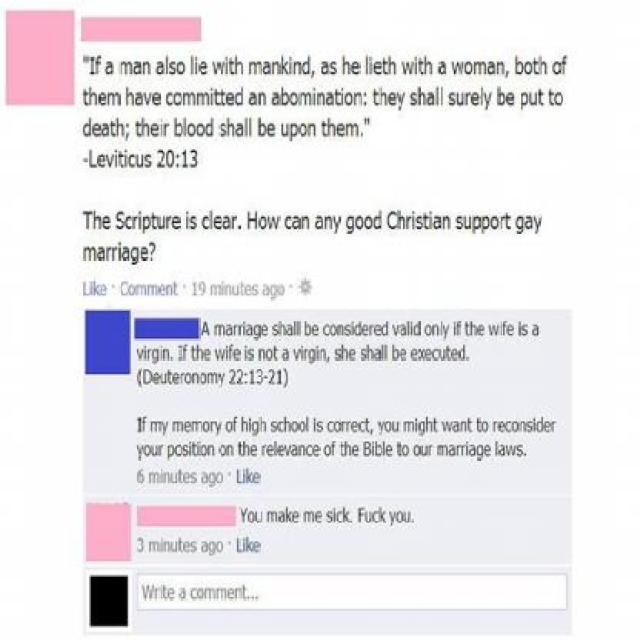0: (166, 149, 174, 168)
1: (182, 149, 188, 168), (250, 370, 256, 384), (276, 370, 282, 384), (192, 280, 197, 296)
2: (157, 149, 166, 168), (230, 368, 236, 386), (268, 368, 274, 386), (236, 368, 242, 384)
3: (190, 148, 198, 168), (256, 368, 264, 386), (137, 536, 143, 552)
6: (137, 467, 145, 484)
9: (198, 280, 207, 297)
A: (524, 214, 534, 232), (314, 214, 324, 231), (262, 60, 272, 76), (222, 214, 232, 230), (438, 59, 447, 76), (133, 60, 142, 76), (320, 60, 329, 76), (433, 214, 442, 230), (97, 246, 106, 262), (201, 321, 210, 337), (324, 93, 334, 107), (487, 59, 495, 76), (156, 60, 164, 76), (292, 214, 300, 230), (105, 60, 114, 74), (134, 93, 143, 107), (248, 92, 257, 106), (271, 92, 280, 106), (101, 123, 110, 137), (234, 123, 243, 137), (178, 586, 187, 600), (427, 92, 435, 106), (122, 246, 130, 260), (262, 284, 270, 298), (225, 323, 233, 337), (246, 323, 254, 337), (532, 323, 540, 337), (290, 444, 298, 458), (448, 444, 456, 458), (468, 444, 476, 458), (498, 444, 506, 458), (200, 472, 208, 486), (200, 540, 208, 554), (278, 511, 286, 524), (285, 324, 293, 336), (398, 324, 406, 336), (282, 348, 290, 360), (373, 348, 381, 360), (452, 420, 460, 432)
B: (497, 85, 506, 106), (281, 86, 290, 106), (174, 117, 183, 137), (515, 56, 523, 76), (258, 116, 266, 136), (364, 441, 372, 456), (392, 344, 399, 360), (376, 440, 382, 457), (306, 321, 312, 337)
C: (388, 210, 397, 230), (120, 280, 129, 297), (127, 152, 136, 168), (124, 214, 132, 230), (284, 214, 292, 230), (202, 216, 210, 230), (165, 92, 172, 106), (506, 419, 512, 433), (336, 510, 342, 524), (372, 510, 378, 524), (191, 586, 197, 600), (433, 348, 439, 361), (323, 324, 329, 336), (277, 420, 283, 432), (327, 420, 333, 432), (358, 420, 364, 432), (306, 444, 312, 456)
D: (204, 117, 213, 137), (82, 118, 91, 136), (143, 368, 152, 386), (302, 56, 310, 76), (374, 209, 382, 229), (235, 86, 242, 106), (354, 320, 360, 337), (414, 320, 420, 337), (458, 344, 464, 360), (537, 416, 543, 432), (382, 321, 388, 336)
E: (266, 122, 276, 138), (150, 122, 159, 138), (213, 214, 222, 230), (198, 60, 208, 74), (374, 60, 382, 76), (92, 122, 100, 138), (337, 122, 345, 138), (102, 214, 110, 230), (172, 214, 180, 230), (140, 246, 148, 262), (98, 92, 107, 106), (97, 153, 106, 167), (352, 60, 359, 76), (153, 92, 161, 106), (226, 92, 234, 106), (388, 92, 396, 106), (507, 92, 515, 106), (99, 284, 107, 298), (244, 284, 252, 298), (348, 348, 356, 362), (152, 372, 160, 386), (250, 444, 258, 458), (266, 444, 274, 458), (277, 444, 285, 458), (312, 444, 320, 458), (384, 444, 392, 458), (483, 444, 491, 458), (314, 510, 322, 524), (183, 540, 191, 554), (252, 540, 260, 554), (167, 586, 175, 600), (227, 586, 235, 600), (232, 348, 240, 361), (410, 348, 418, 361), (172, 372, 180, 385), (183, 471, 191, 484), (252, 472, 260, 485), (292, 511, 300, 524), (471, 92, 478, 106), (157, 284, 165, 296), (312, 324, 320, 336), (477, 324, 485, 336), (507, 324, 515, 336), (203, 348, 211, 360), (498, 420, 506, 432), (543, 420, 551, 432), (374, 324, 382, 336), (361, 324, 368, 336), (400, 348, 406, 362), (426, 348, 432, 362), (451, 348, 458, 360), (351, 420, 358, 432), (352, 444, 359, 456), (184, 420, 190, 432), (262, 324, 268, 336)
F: (358, 507, 366, 524), (94, 56, 100, 76), (562, 55, 568, 74), (228, 343, 234, 360), (456, 320, 462, 336), (502, 320, 507, 336), (183, 343, 188, 359), (142, 416, 147, 432), (233, 416, 238, 432), (332, 439, 336, 456)
G: (130, 247, 139, 266), (346, 215, 354, 234), (516, 215, 524, 234), (253, 324, 261, 340), (152, 348, 160, 364), (250, 421, 258, 436), (208, 540, 215, 557), (208, 472, 215, 488), (270, 284, 276, 300), (418, 420, 424, 436), (477, 444, 483, 460), (310, 348, 316, 363)
H: (247, 210, 258, 230), (538, 56, 548, 76), (424, 56, 433, 76), (417, 86, 426, 106), (235, 56, 243, 76), (342, 56, 350, 76), (388, 56, 396, 76), (89, 86, 97, 106), (126, 86, 134, 106), (379, 86, 387, 106), (116, 117, 124, 137), (94, 210, 102, 230), (398, 209, 406, 229), (142, 118, 150, 136), (227, 118, 235, 136), (328, 118, 336, 136), (243, 439, 249, 456), (344, 439, 350, 456), (471, 320, 477, 336), (197, 344, 203, 360), (242, 416, 248, 432), (284, 416, 290, 432), (426, 416, 432, 432), (260, 416, 266, 432), (278, 321, 284, 336), (342, 344, 348, 359), (367, 344, 373, 359)
I: (90, 56, 96, 76), (177, 344, 183, 362), (288, 56, 292, 76), (114, 148, 118, 168), (124, 148, 128, 168), (138, 210, 142, 230), (312, 86, 316, 105), (412, 210, 416, 228), (532, 416, 536, 432), (138, 416, 142, 432), (195, 56, 198, 76), (210, 86, 213, 106), (248, 417, 252, 432), (225, 56, 228, 75), (414, 56, 417, 75), (414, 417, 418, 431), (341, 88, 344, 106), (160, 118, 163, 136), (410, 321, 413, 337), (226, 344, 229, 360), (245, 344, 248, 360), (301, 344, 304, 360), (316, 344, 319, 360), (243, 468, 246, 484), (160, 536, 163, 552), (243, 538, 246, 554), (243, 321, 246, 336), (143, 344, 146, 359), (314, 417, 317, 432), (197, 441, 200, 456), (453, 322, 456, 336), (160, 469, 163, 483), (186, 210, 188, 230), (430, 210, 432, 230), (118, 242, 120, 262), (370, 58, 372, 74), (90, 280, 92, 296), (518, 321, 520, 337), (160, 344, 162, 360), (334, 508, 336, 524), (352, 321, 354, 336), (466, 441, 468, 456), (222, 282, 224, 296), (500, 322, 502, 336), (190, 442, 192, 456), (372, 442, 374, 456), (160, 586, 162, 600)
K: (280, 56, 288, 76), (247, 467, 253, 484), (286, 507, 292, 524), (343, 506, 349, 523), (380, 506, 386, 523), (93, 280, 99, 296), (247, 536, 253, 552)
L: (89, 149, 97, 168), (83, 281, 89, 297), (236, 468, 242, 484), (236, 536, 242, 552), (248, 118, 252, 136), (191, 56, 194, 76), (183, 117, 186, 137), (245, 117, 248, 137), (480, 86, 483, 105), (294, 320, 297, 337), (297, 320, 300, 337), (274, 439, 277, 456), (407, 320, 410, 336), (166, 56, 168, 76), (366, 56, 368, 76), (210, 209, 212, 229), (436, 86, 438, 105), (440, 86, 442, 105), (440, 320, 442, 337), (496, 439, 498, 456), (306, 416, 308, 432), (383, 440, 385, 456), (382, 344, 384, 359), (385, 344, 387, 359)
M: (119, 60, 133, 74), (248, 60, 262, 74), (473, 60, 487, 74), (196, 92, 210, 106), (107, 92, 121, 106), (298, 92, 312, 106), (344, 123, 358, 137), (83, 247, 97, 261), (182, 92, 196, 105), (148, 540, 160, 554), (210, 284, 221, 298), (216, 586, 227, 600), (207, 371, 218, 384), (267, 511, 278, 524), (148, 284, 158, 298), (136, 284, 147, 296), (213, 324, 224, 336), (150, 420, 162, 431), (172, 420, 183, 432), (192, 419, 202, 432), (304, 511, 314, 524), (149, 472, 160, 483), (438, 444, 448, 456), (404, 420, 414, 431), (206, 588, 214, 598)
N: (257, 92, 266, 106), (142, 60, 150, 74), (272, 60, 280, 74), (293, 60, 301, 74), (496, 60, 504, 74), (317, 92, 325, 106), (308, 123, 316, 137), (302, 216, 310, 230), (324, 216, 332, 230), (442, 216, 450, 230), (432, 322, 440, 336), (354, 92, 362, 105), (337, 324, 345, 336), (208, 444, 214, 458), (300, 444, 306, 458), (234, 586, 240, 600), (163, 346, 169, 359), (192, 372, 198, 385), (164, 471, 170, 484), (166, 284, 172, 296), (226, 284, 232, 296), (258, 348, 264, 360), (320, 348, 326, 360), (520, 420, 526, 432), (227, 444, 233, 456), (164, 540, 170, 552), (461, 421, 467, 432)
O: (177, 60, 186, 76), (524, 60, 533, 76), (552, 60, 562, 74), (172, 92, 182, 106), (354, 216, 364, 230), (464, 60, 473, 74), (554, 92, 563, 106), (187, 122, 196, 136), (197, 123, 206, 137), (298, 123, 307, 137), (258, 216, 267, 230), (364, 216, 373, 230), (490, 216, 499, 230), (290, 92, 298, 106), (344, 92, 352, 106), (329, 322, 337, 336), (424, 322, 432, 336), (334, 419, 342, 433), (200, 443, 208, 457), (218, 443, 226, 457), (324, 444, 332, 458), (215, 540, 223, 554), (265, 348, 273, 361), (199, 372, 207, 385), (290, 419, 298, 432), (215, 471, 223, 484), (396, 511, 404, 524), (277, 284, 285, 296), (202, 420, 210, 432), (225, 420, 233, 432), (298, 420, 306, 432), (384, 420, 392, 432), (512, 420, 520, 432), (413, 444, 421, 456), (185, 372, 192, 385), (248, 511, 255, 524), (482, 420, 489, 432), (144, 444, 150, 458), (176, 444, 182, 458), (402, 444, 409, 456), (197, 588, 205, 598), (128, 284, 134, 296)
P: (520, 92, 528, 111), (290, 123, 298, 142), (142, 216, 150, 233), (473, 217, 481, 234), (482, 217, 490, 234), (168, 444, 174, 460)
R: (111, 247, 118, 261), (166, 214, 172, 230), (466, 92, 472, 106), (163, 123, 169, 137), (132, 216, 138, 230), (232, 216, 238, 230), (406, 214, 412, 228), (106, 247, 112, 261), (460, 444, 466, 458), (147, 348, 153, 361), (158, 444, 164, 456), (428, 444, 434, 456), (500, 216, 505, 230), (233, 322, 238, 336), (550, 421, 556, 432), (180, 372, 185, 385), (210, 419, 215, 432), (493, 419, 498, 432), (369, 324, 374, 336), (303, 348, 308, 360), (346, 420, 351, 432), (455, 444, 460, 456), (154, 588, 160, 598), (342, 419, 346, 432), (238, 324, 242, 336), (262, 444, 266, 456)
S: (116, 210, 124, 230), (218, 122, 226, 138), (456, 214, 464, 229), (415, 214, 423, 229), (168, 60, 176, 74), (329, 60, 337, 74), (410, 92, 418, 106), (448, 92, 456, 106), (144, 153, 152, 167), (189, 216, 197, 230), (316, 420, 324, 432), (182, 444, 188, 458), (517, 444, 523, 458), (326, 510, 332, 524), (191, 540, 197, 554), (360, 348, 366, 361), (191, 471, 197, 484), (252, 284, 258, 296), (272, 324, 278, 336), (522, 324, 528, 336), (248, 348, 254, 360), (334, 348, 340, 360), (270, 420, 276, 432), (526, 420, 532, 432), (345, 322, 350, 336)
T: (81, 210, 92, 230), (82, 88, 89, 106), (228, 56, 234, 76), (382, 56, 388, 76), (322, 118, 328, 137), (220, 88, 226, 106), (118, 150, 124, 168), (151, 212, 157, 230), (423, 212, 429, 230), (504, 212, 510, 230), (213, 88, 219, 105), (334, 88, 340, 105), (538, 88, 544, 105), (548, 88, 554, 105), (110, 119, 116, 136), (134, 119, 140, 136), (432, 416, 438, 433), (418, 58, 424, 74), (238, 280, 244, 296), (191, 344, 197, 360), (364, 416, 370, 432), (192, 441, 198, 457), (237, 441, 243, 457), (241, 584, 247, 600), (466, 417, 472, 432), (464, 322, 470, 336), (272, 346, 278, 360), (396, 442, 402, 456), (534, 56, 538, 76), (173, 280, 178, 296), (162, 584, 167, 600), (374, 88, 378, 107), (476, 417, 481, 432), (446, 346, 451, 360), (339, 442, 344, 456), (178, 538, 182, 554), (168, 370, 172, 384), (178, 470, 182, 484)
U: (157, 216, 166, 230), (456, 93, 464, 107), (280, 123, 288, 137), (136, 154, 144, 168), (464, 216, 472, 230), (159, 372, 167, 386), (529, 92, 537, 105), (152, 444, 158, 458), (440, 348, 446, 361), (392, 421, 398, 434), (171, 472, 177, 485), (256, 511, 262, 524), (366, 511, 372, 524), (404, 511, 410, 524), (421, 444, 427, 456), (171, 540, 177, 552), (233, 286, 239, 296)
V: (106, 153, 114, 169), (143, 92, 152, 106), (393, 322, 399, 336), (137, 348, 143, 361), (294, 348, 300, 360), (284, 444, 290, 456)
W: (210, 60, 224, 76), (266, 216, 280, 230), (401, 60, 414, 74), (451, 60, 464, 74), (142, 586, 155, 600), (488, 324, 499, 338), (506, 444, 516, 458), (213, 348, 224, 360), (442, 420, 452, 432)
X: (420, 348, 426, 361)
Y: (332, 216, 341, 235), (238, 508, 248, 524), (397, 92, 405, 111), (484, 92, 492, 111), (534, 217, 542, 234), (214, 420, 222, 436), (218, 372, 225, 388), (378, 419, 384, 436), (137, 444, 143, 461), (390, 510, 396, 527), (443, 324, 449, 338), (162, 420, 168, 434)
